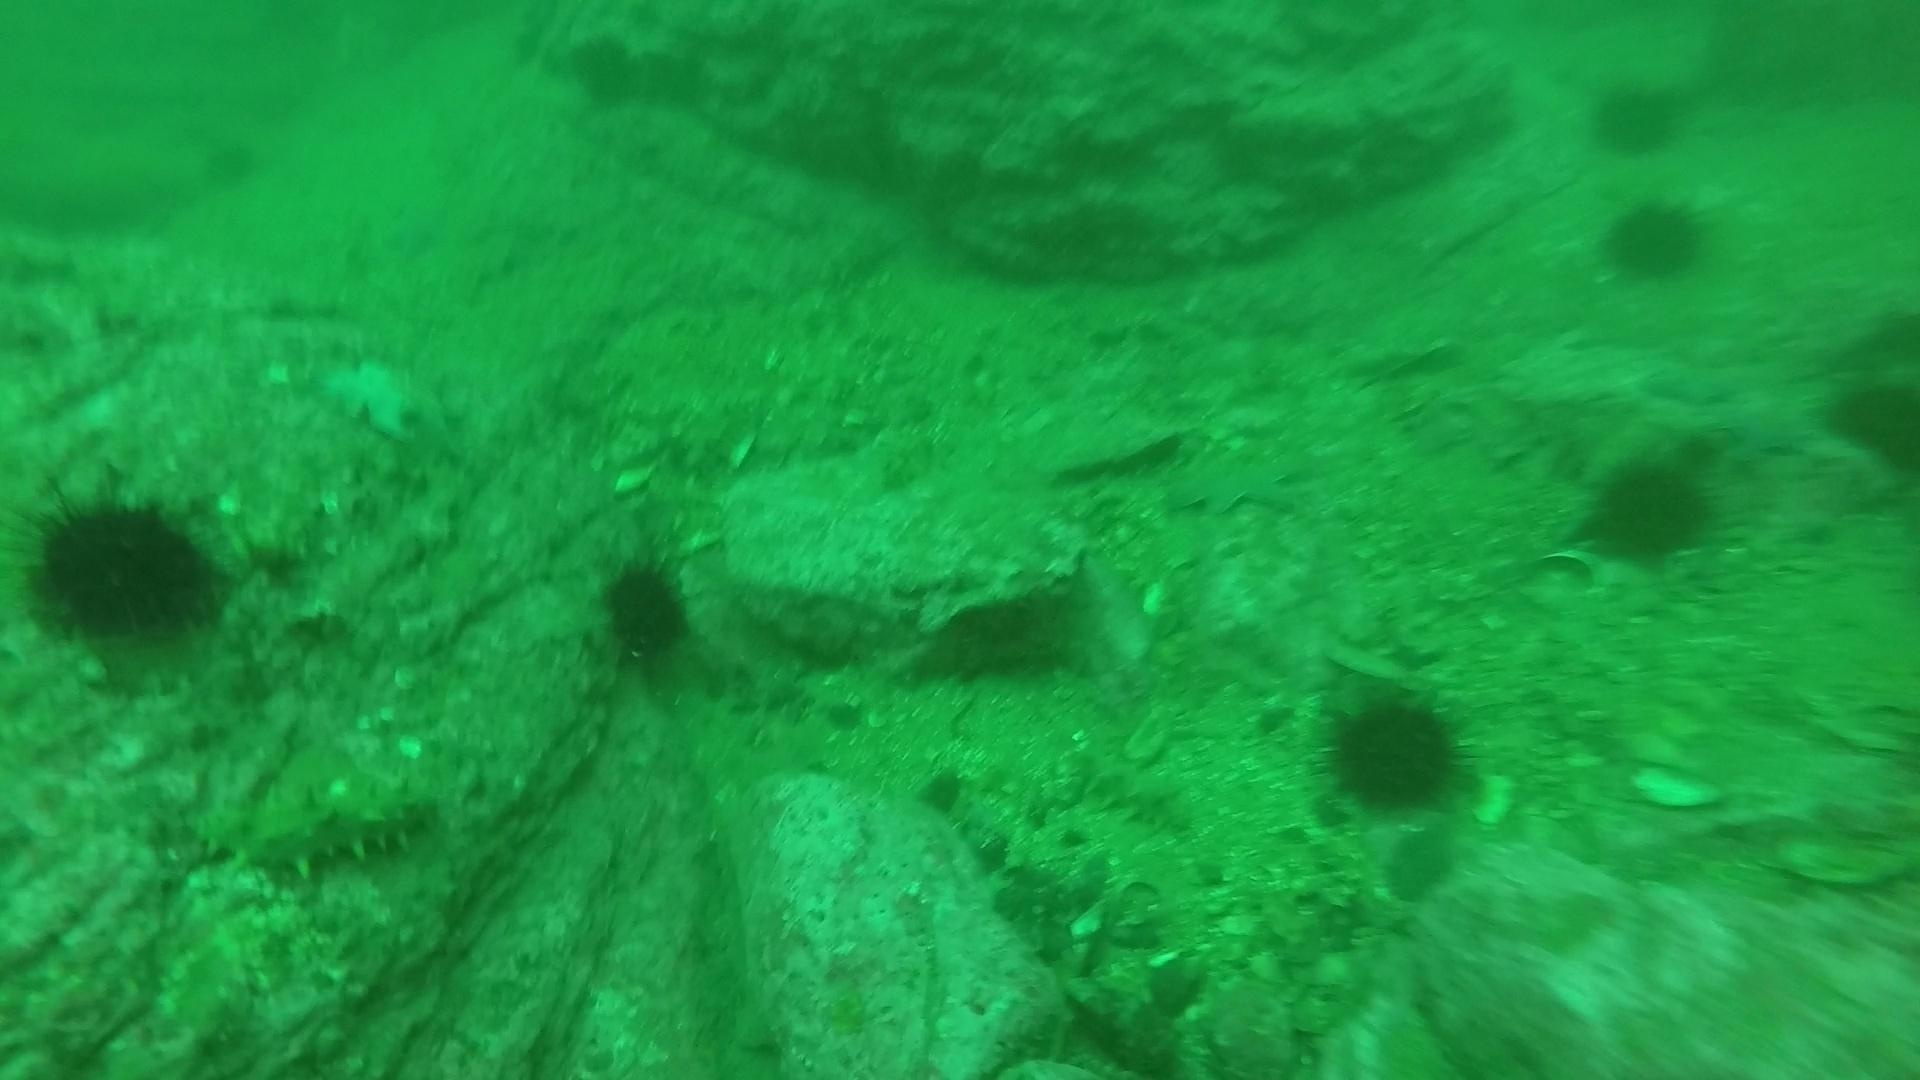echinus: (15, 476, 228, 649), (1313, 682, 1476, 820), (916, 582, 1081, 690), (1576, 450, 1720, 570), (591, 551, 698, 673), (1597, 193, 1712, 286), (1821, 369, 1917, 476), (1585, 74, 1687, 161)
holothurian: (187, 766, 446, 887)
starfish: (309, 344, 440, 450), (1158, 440, 1303, 522), (1710, 390, 1826, 462), (1640, 357, 1747, 410)
